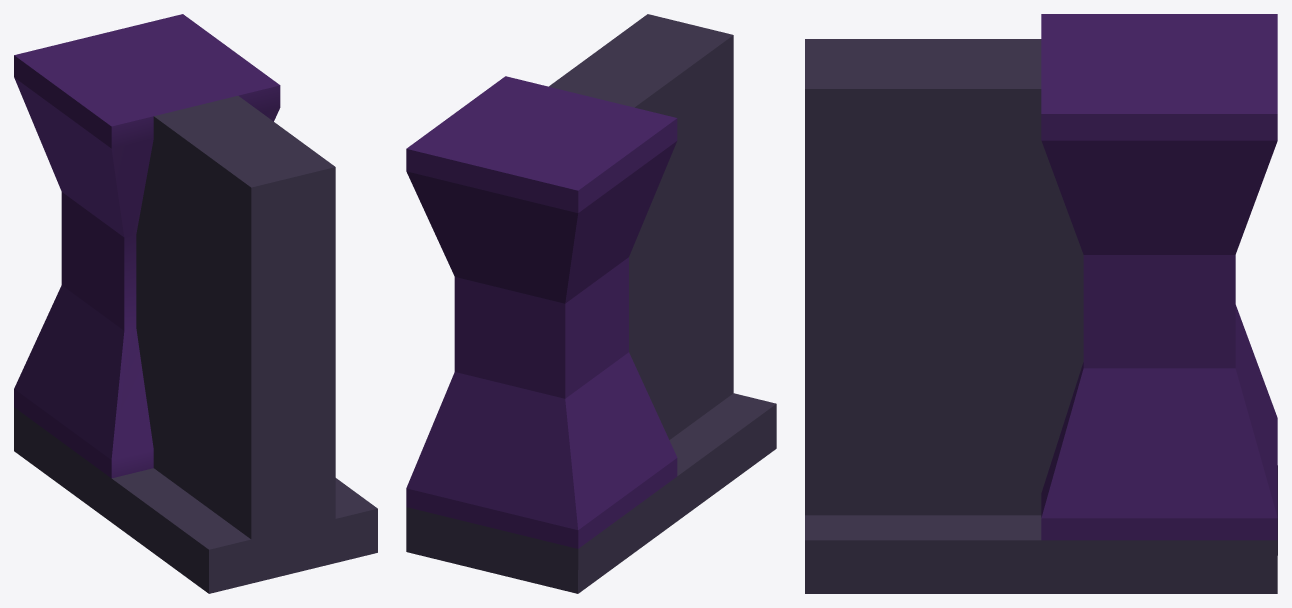
The model's file is EndWall.fbx.
The picture shows the model from 3 angles, left to right: view 1: azimuth 30°, elevation 25°; view 2: azimuth 150°, elevation 25°; view 3: azimuth 270°, elevation 25°; orthographic projection. The views are drawn at different scales.
Visible parts, largest first — view 1: EndWall; view 2: EndWall; view 3: EndWall.
Boxes of the visible parts, box(x1,y1,x2,y2) form: EndWall: box(14, 14, 377, 593); EndWall: box(406, 14, 776, 593); EndWall: box(805, 14, 1277, 593).
Bounding box in the file's own units: 200 × 448 × 400.
